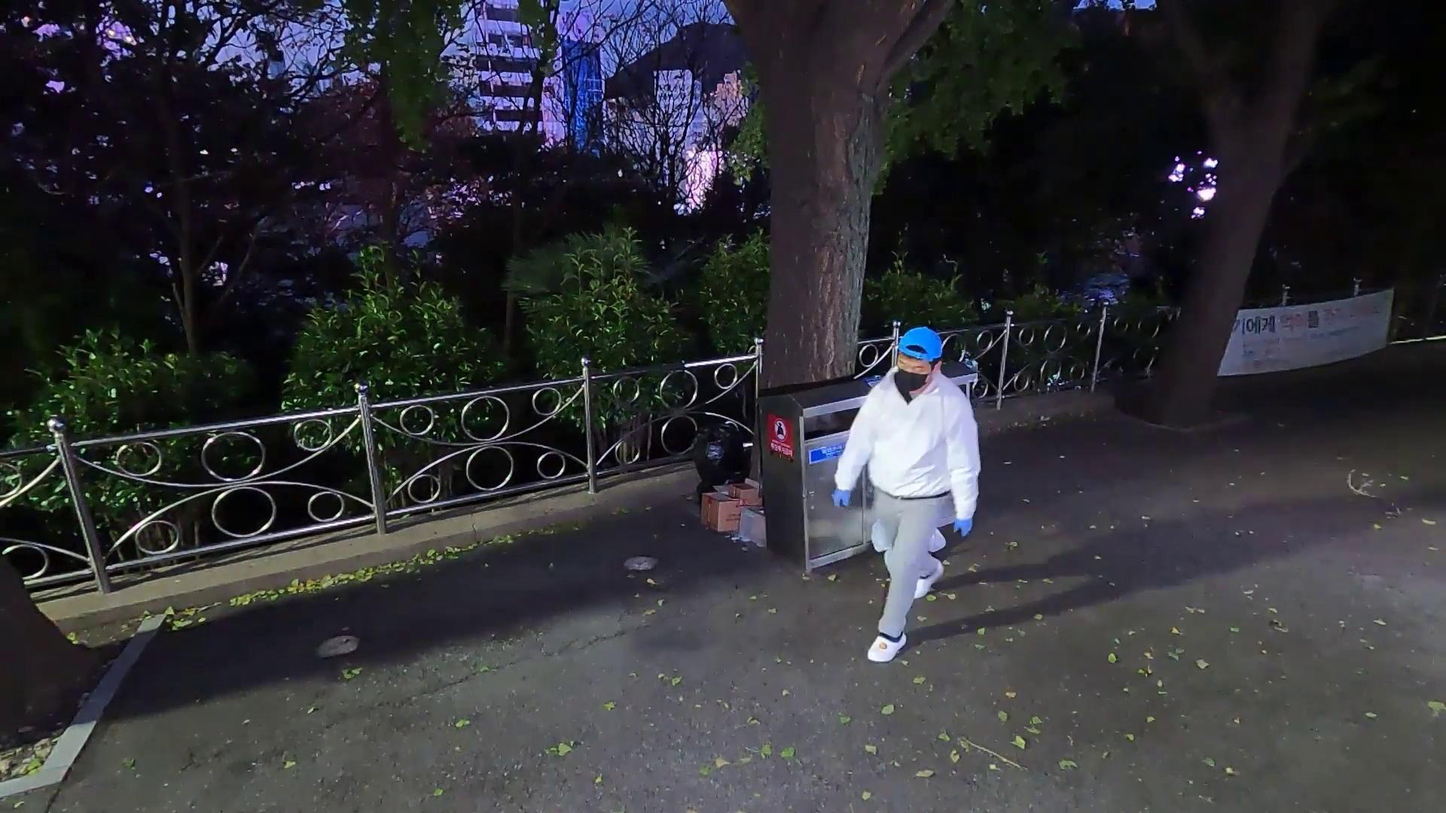person: (834, 316, 986, 669)
trash: (691, 418, 751, 482), (703, 486, 766, 532), (691, 475, 763, 506), (740, 502, 768, 544), (726, 480, 761, 504)
